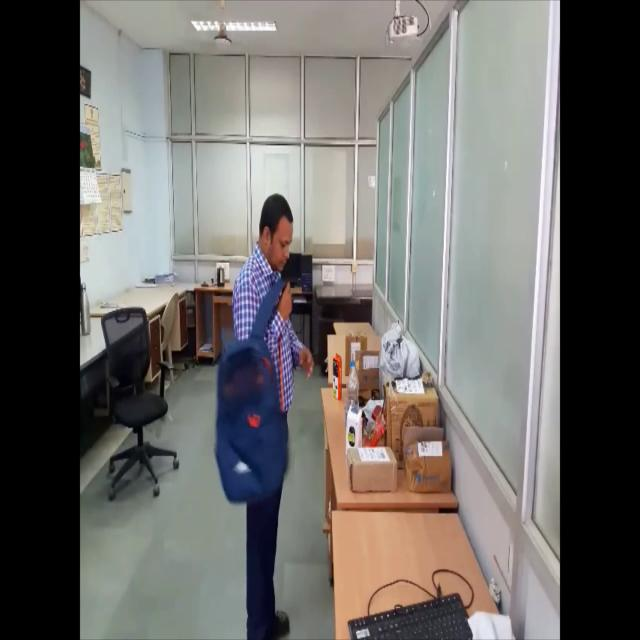shoplifting: (206, 180, 304, 636)
